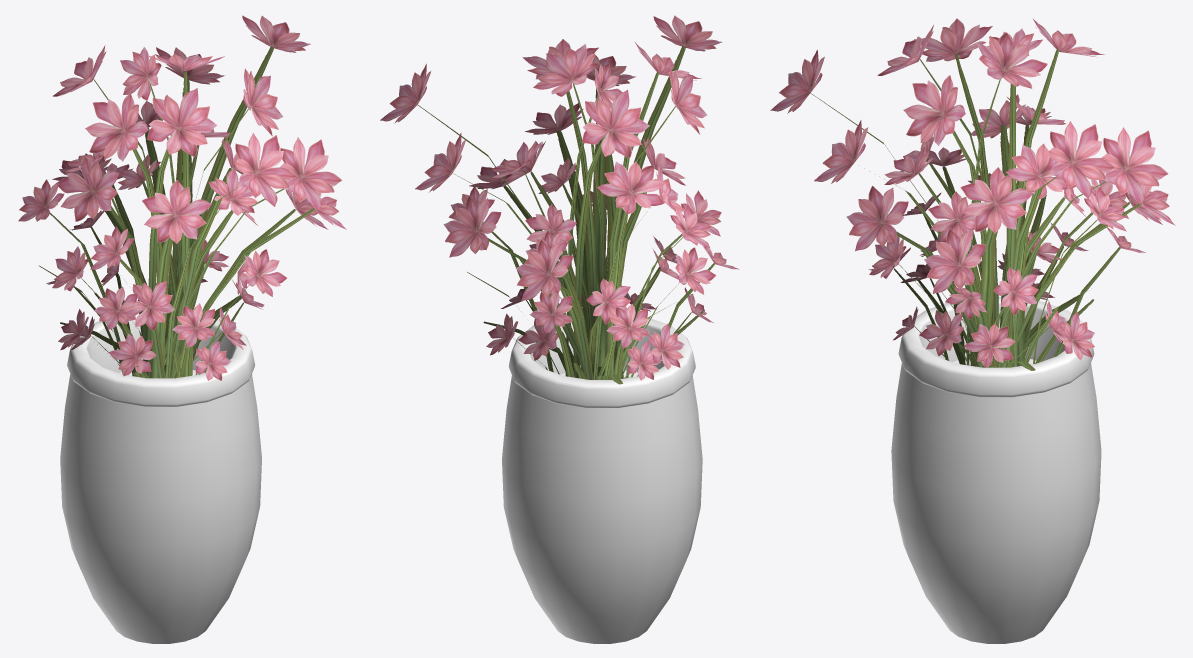
Rendered from SM_Potted_Pink_Flower_C.fbx.
3 renders of one model, left to right at view 1: azimuth 30°, elevation 25°; view 2: azimuth 150°, elevation 25°; view 3: azimuth 270°, elevation 25°, orthographic. The views are drawn at different scales.
Parts seen in each view (by area): view 1: SM_Potted_Pink_Flower_C_LOD0; view 2: SM_Potted_Pink_Flower_C_LOD0; view 3: SM_Potted_Pink_Flower_C_LOD0.
Part boxes in pixels (x1,y1,x2,y2): SM_Potted_Pink_Flower_C_LOD0: (18, 15, 346, 643); SM_Potted_Pink_Flower_C_LOD0: (380, 15, 739, 643); SM_Potted_Pink_Flower_C_LOD0: (770, 18, 1175, 643).
Size of the model in its own units: 42.81 by 46.79 by 75.3.
Materials: 2 (1 with a texture image).
